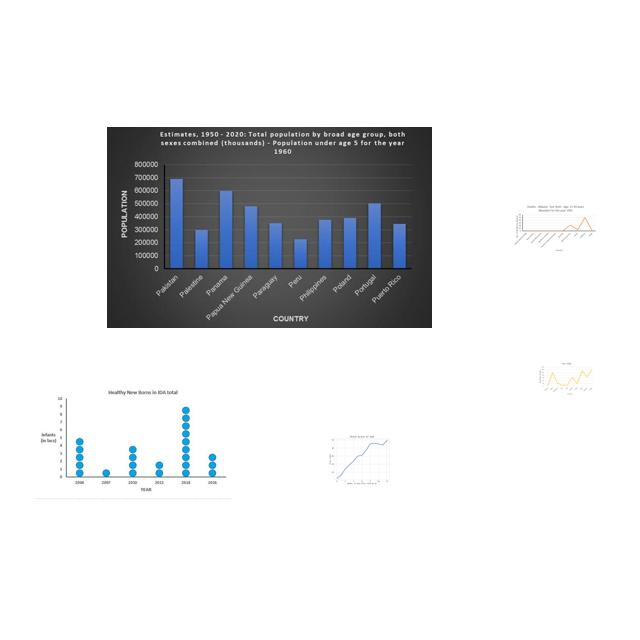Graph: (107, 127, 432, 328), (34, 385, 231, 500), (514, 204, 597, 253), (325, 432, 397, 486), (537, 361, 596, 397)
